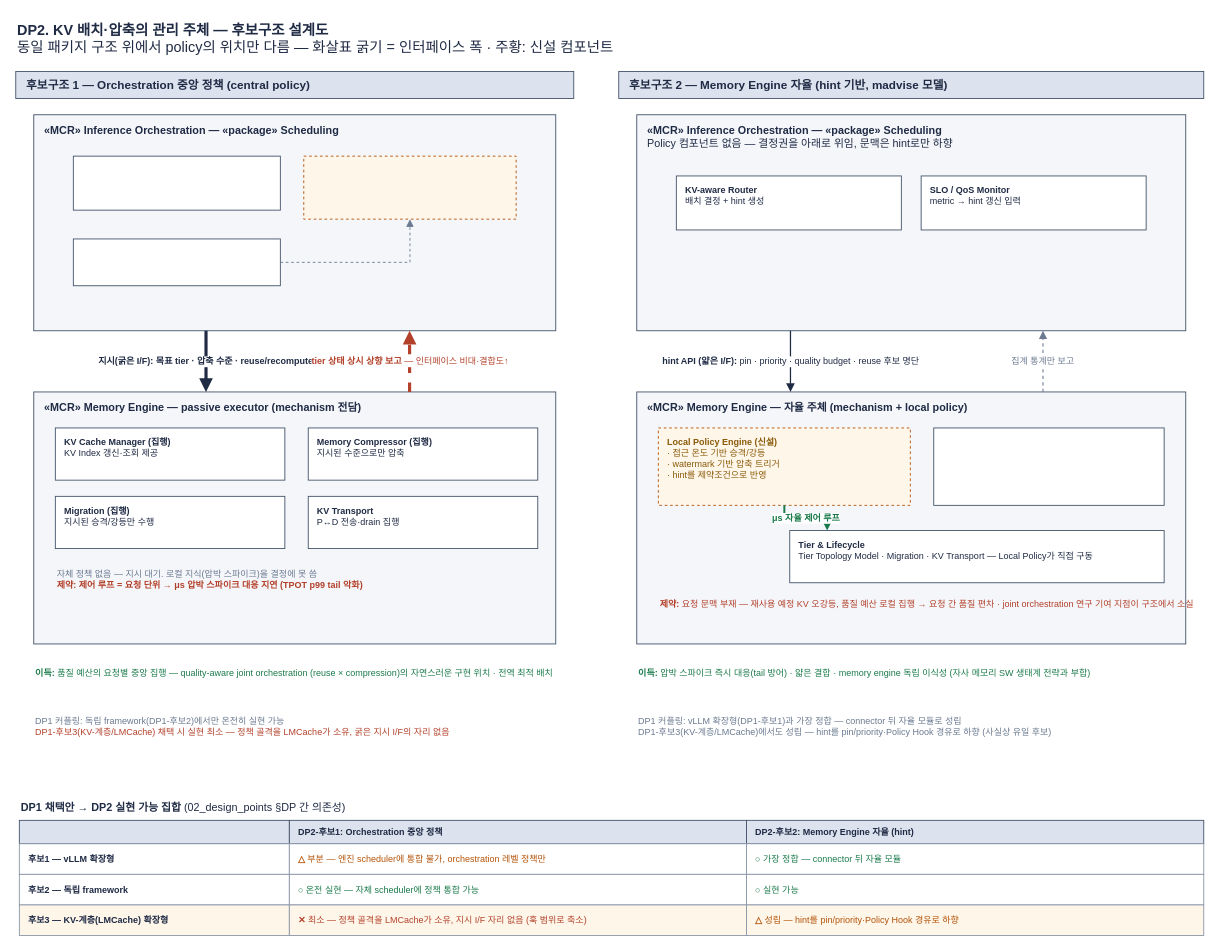
Some shapes in this 1220 by 951 pixel diagram are drawn without their labels. Here are the shapes that lost their labels. From the top down, the centre of each, then its label:
At point (176, 182): "KV-aware Router 배치 결정 시 Policy와 협조".
At point (409, 187): "KV Placement & Compression Policy (신설) SLO class·재사용확률·품질예산 기반".
At point (176, 262): "SLO / QoS Monitor metric → Policy 입력".
At point (1048, 466): "Cache Manager KV Cache Manager · Memory Compressor · KV Index".
At point (153, 831): "DP1 채택안".
